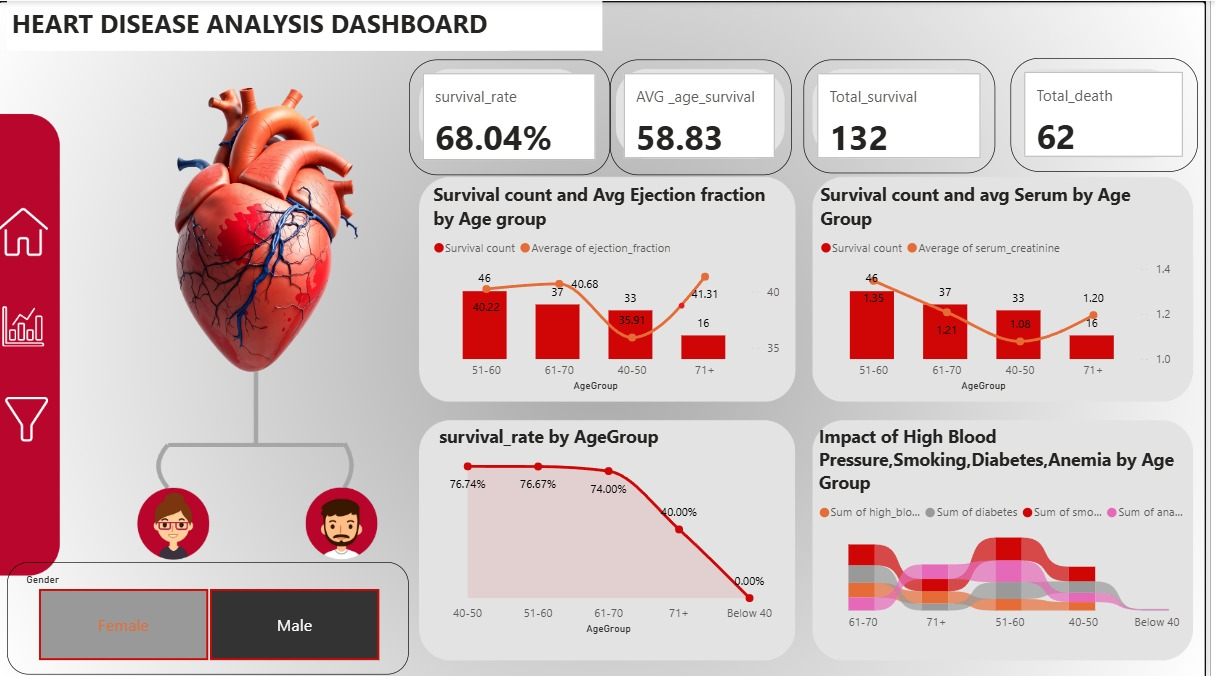

The dashboard page shown, as its layout file describes it:
{"tool":"powerbi","page":{"name":"Heart disease analysis","canvas":[1280,720],"ordinal":0},"visuals":[{"type":"textbox","box":[9.4,0,631.2,52.9],"z":0},{"type":"cardVisual","fields":{"Data":["heart_Disease_clinical_records_.survival_rate"]},"box":[435.8,62,213.1,122.5],"z":1},{"type":"cardVisual","fields":{"Data":["heart_Disease_clinical_records_.AVG _age_survival"]},"box":[649,62,192.5,122.5],"z":2},{"type":"cardVisual","fields":{"Data":["heart_Disease_clinical_records_.Total_surviour"]},"box":[854.2,62,203.6,120.9],"z":3},{"type":"cardVisual","fields":{"Data":["heart_Disease_clinical_records_.Total_death"]},"box":[1073.7,60.4,198.8,120.9],"z":4},{"type":"textbox","box":[9.5,0,532.9,52.5],"z":5},{"type":"lineClusteredColumnComboChart","title":"Survival count and avg Serum by Age  Group","fields":{"Category":["heart_Disease_clinical_records_.AgeGroup"],"Y":["CountNonNull(heart_Disease_clinical_records_.DEATH_EVENT)"],"Y2":["Avg(heart_Disease_clinical_records_.serum_creatinine)"]},"box":[866.9,192.5,381.7,225.9],"z":6},{"type":"lineClusteredColumnComboChart","title":"Survival count and Avg Ejection fraction by Age group","fields":{"Category":["heart_Disease_clinical_records_.AgeGroup"],"Y":["CountNonNull(heart_Disease_clinical_records_.DEATH_EVENT)"],"Y2":["Avg(heart_Disease_clinical_records_.ejection_fraction)"]},"box":[456.5,192.5,377,225.9],"z":7},{"type":"lineChart","fields":{"Category":["heart_Disease_clinical_records_.AgeGroup"],"Y":["heart_Disease_clinical_records_.survival_rate"]},"box":[462.9,448.6,370.6,227.5],"z":8},{"type":"ribbonChart","title":"Impact of High Blood Pressure,Smoking,Diabetes,Anemia by Age Group","fields":{"Category":["heart_Disease_clinical_records_.AgeGroup"],"Y":["Sum(heart_Disease_clinical_records_.high_blood_pressure)","Sum(heart_Disease_clinical_records_.diabetes)","Sum(heart_Disease_clinical_records_.smoking)","Sum(heart_Disease_clinical_records_.anaemia)"]},"box":[865.3,448.6,415.1,227.5],"z":9},{"type":"slicer","fields":{"Values":["heart_Disease_clinical_records_.Gender"]},"box":[9.5,594.9,426.3,119.3],"z":10}]}

Visuals, with their boxes in screenshot pixels (x1, y1, x2, y2), scaled from the page's 1280x720 canvas onto the 1215x676 screenshot:
textbox: locate(9, 0, 608, 50)
cardVisual - heart_Disease_clinical_records_.survival_rate: locate(414, 58, 616, 173)
cardVisual - heart_Disease_clinical_records_.AVG _age_survival: locate(616, 58, 799, 173)
cardVisual - heart_Disease_clinical_records_.Total_surviour: locate(811, 58, 1004, 172)
cardVisual - heart_Disease_clinical_records_.Total_death: locate(1019, 57, 1208, 170)
textbox: locate(9, 0, 515, 49)
"Survival count and avg Serum by Age  Group" lineClusteredColumnComboChart: locate(823, 181, 1185, 393)
"Survival count and Avg Ejection fraction by Age group" lineClusteredColumnComboChart: locate(433, 181, 791, 393)
lineChart - heart_Disease_clinical_records_.AgeGroup x heart_Disease_clinical_records_.survival_rate: locate(439, 421, 791, 635)
"Impact of High Blood Pressure,Smoking,Diabetes,Anemia by Age Group" ribbonChart: locate(821, 421, 1214, 635)
slicer - heart_Disease_clinical_records_.Gender: locate(9, 559, 414, 671)
